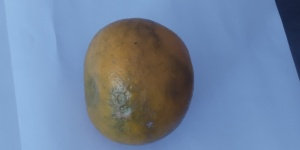BAD: (82, 16, 196, 145)
